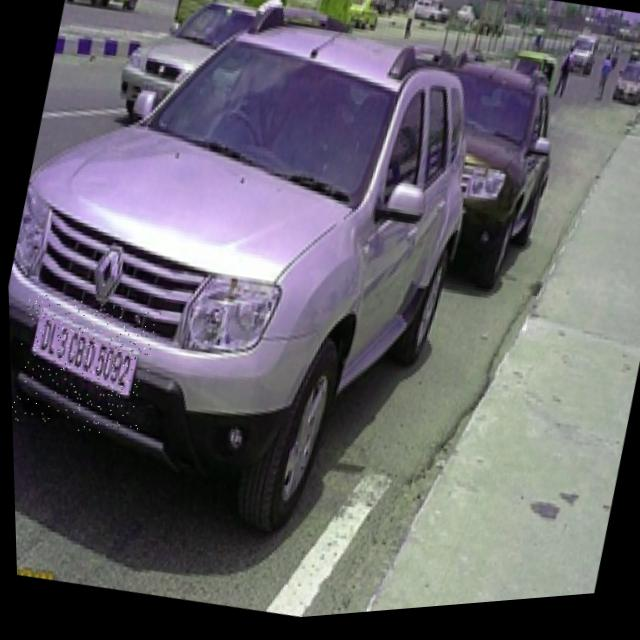license_plate: (7, 284, 160, 449)
